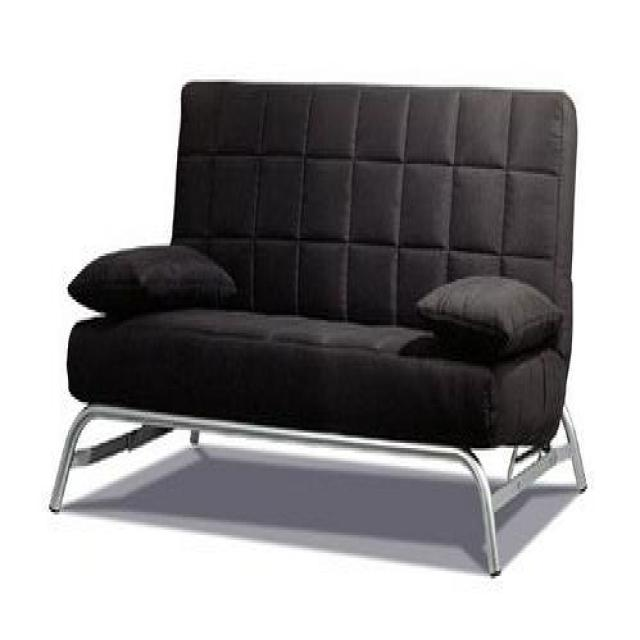sofa: (46, 77, 586, 573)
